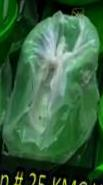cylinder: (1, 1, 103, 185)
